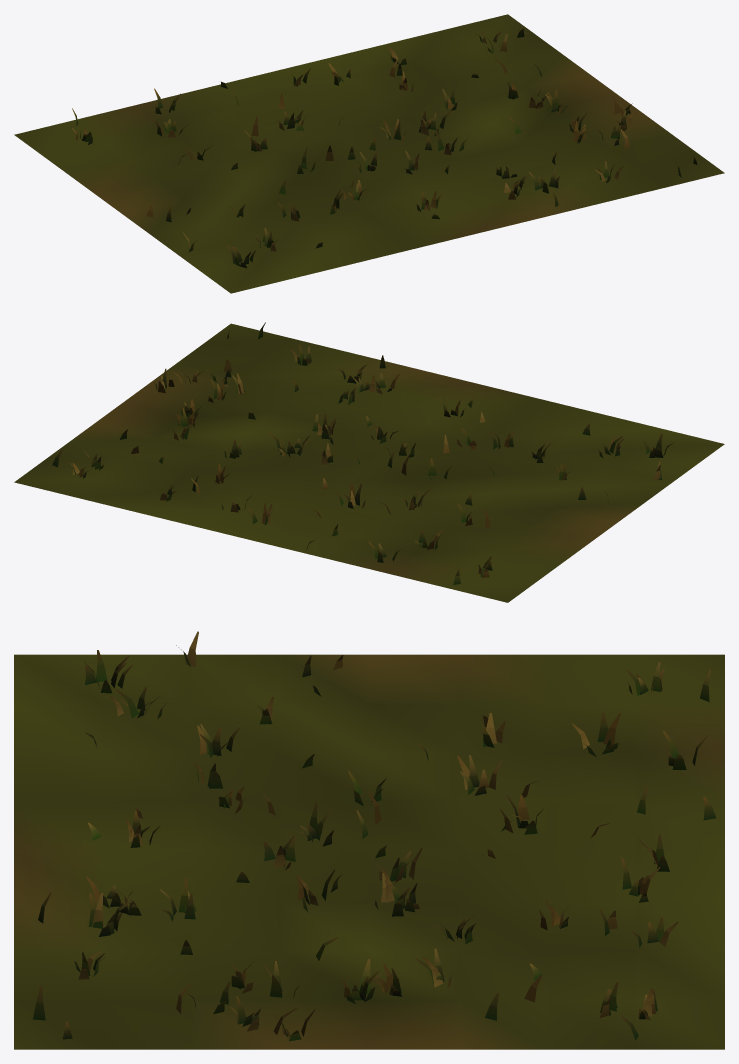
The model's file is fm_turf_low.glb.
The picture shows the model from 3 angles, top to bottom: view 1: azimuth 30°, elevation 25°; view 2: azimuth 150°, elevation 25°; view 3: azimuth 270°, elevation 25°; orthographic projection. The views are drawn at different scales.
Visible parts, largest first — view 1: fm_turf_low; view 2: fm_turf_low; view 3: fm_turf_low.
Boxes of the visible parts, x1=… form: fm_turf_low: x1=14, y1=14, x2=724, y2=293; fm_turf_low: x1=14, y1=322, x2=724, y2=602; fm_turf_low: x1=14, y1=631, x2=724, y2=1049.
Bounding box in the file's own units: 2.3 × 0.0825 × 1.75.
